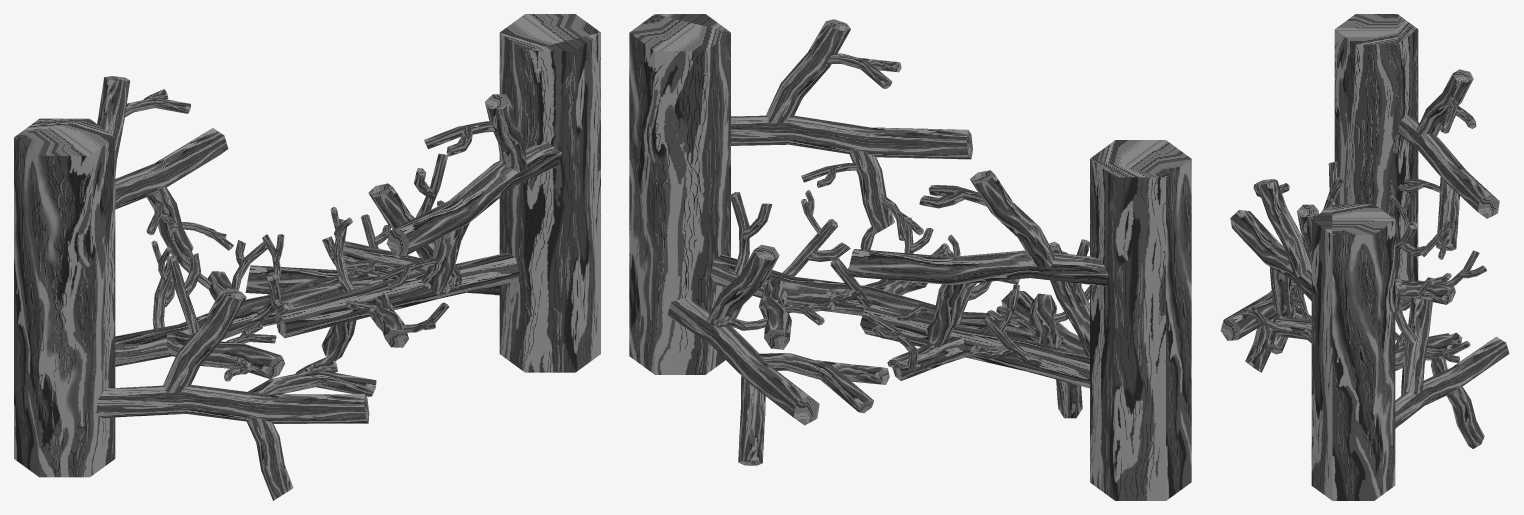
Rendered from tronco.glb.
The picture shows the model from 3 angles, left to right: view 1: azimuth 30°, elevation 25°; view 2: azimuth 150°, elevation 25°; view 3: azimuth 270°, elevation 25°; orthographic projection. The views are drawn at different scales.
Parts seen in each view (by area): view 1: tronco; view 2: tronco; view 3: tronco.
Part boxes in pixels (<box>): tronco: <box>14,14,600,500</box>; tronco: <box>629,14,1191,500</box>; tronco: <box>1220,14,1509,500</box>.
Size of the model in its own units: 27.11 by 16.29 by 14.98.
2 materials, 2 textured.
